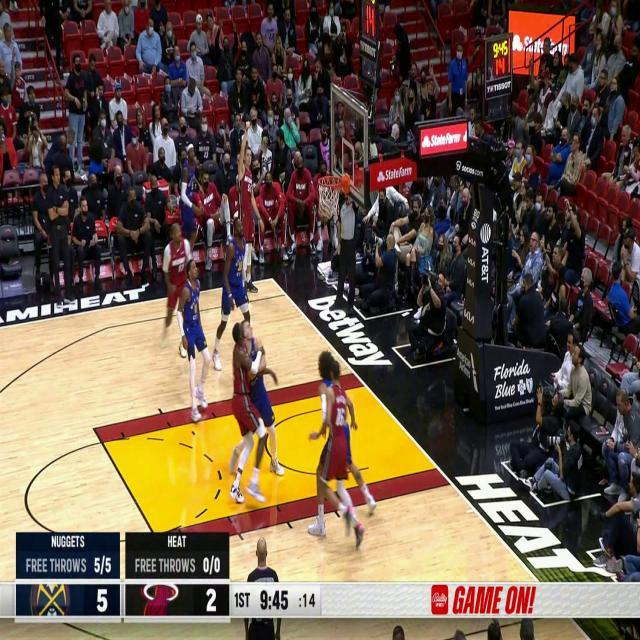rim: (318, 200, 332, 220)
